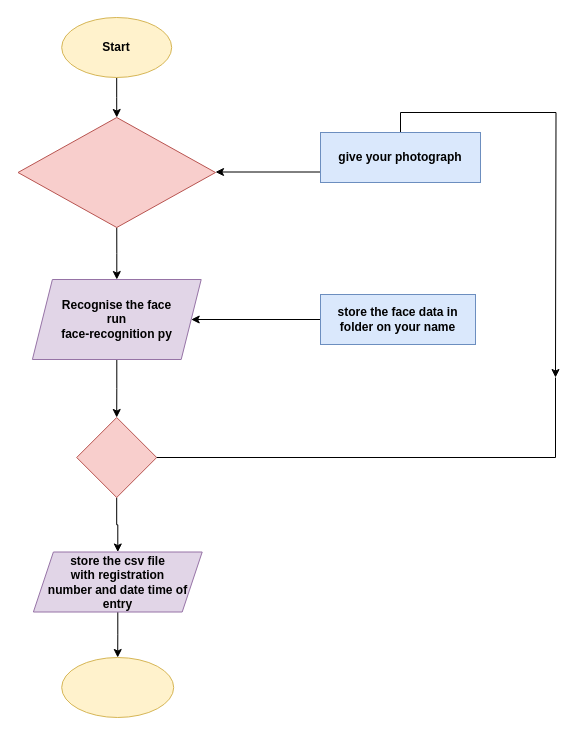
The diagram is 581 pixels wide and 735 high, and some of its shapes have lost their labels. Here are the shapes that lost their labels. From the top down, the centre of each, then its label:
At (x=116, y=172): "New user? run face-recogniyion-py".
At (x=116, y=457): "face recognized".
At (x=117, y=687): "end".
